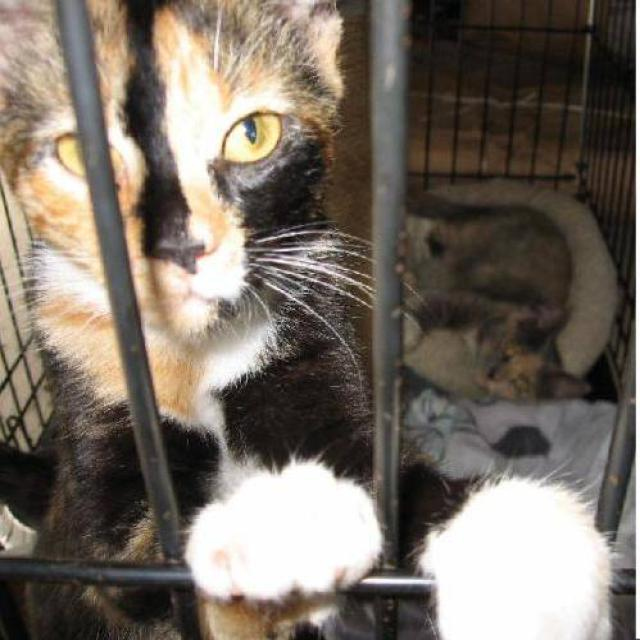cat: (0, 0, 618, 639)
